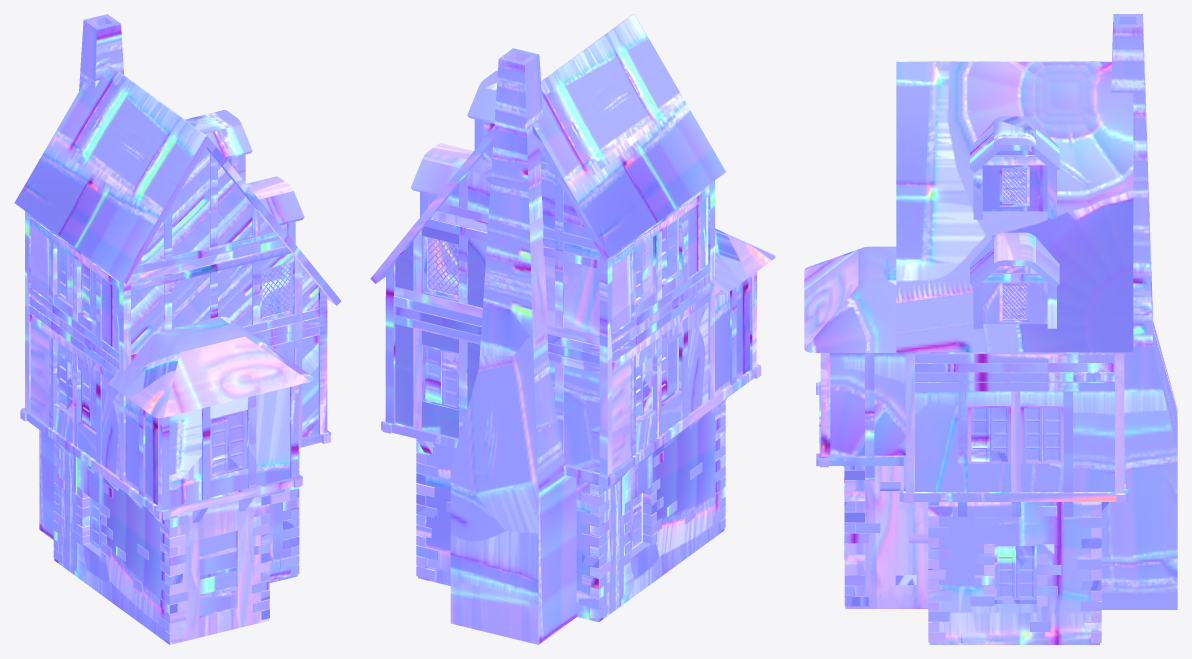
File: medieval houses 1.fbx
The picture shows the model from 3 angles, left to right: view 1: azimuth 30°, elevation 25°; view 2: azimuth 150°, elevation 25°; view 3: azimuth 270°, elevation 25°; orthographic projection. The views are drawn at different scales.
Parts seen in each view (by area): view 1: Object_2; view 2: Object_2; view 3: Object_2.
Boxes of the visible parts, x1=… form: Object_2: x1=14, y1=14, x2=341, y2=644; Object_2: x1=370, y1=14, x2=775, y2=644; Object_2: x1=804, y1=14, x2=1177, y2=644.
Bounding box in the file's own units: 338 × 735 × 438.
